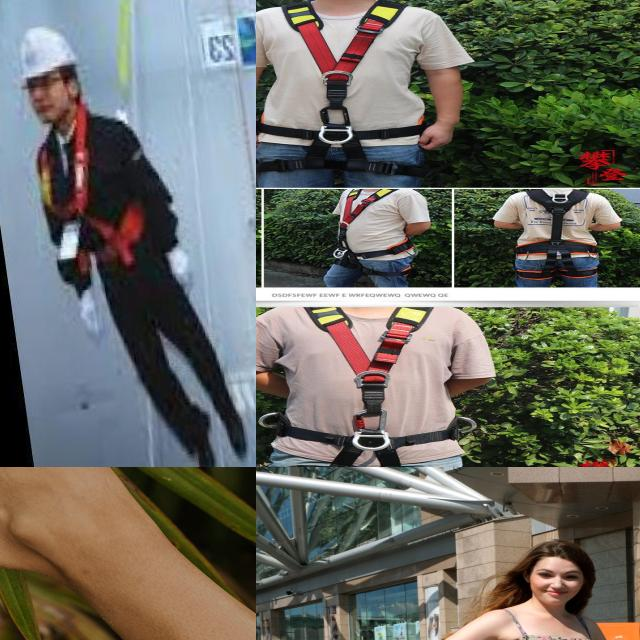Harness: (262, 3, 422, 162), (290, 306, 448, 467), (41, 95, 153, 286), (521, 192, 598, 273)
Sandals: (0, 467, 93, 564)
